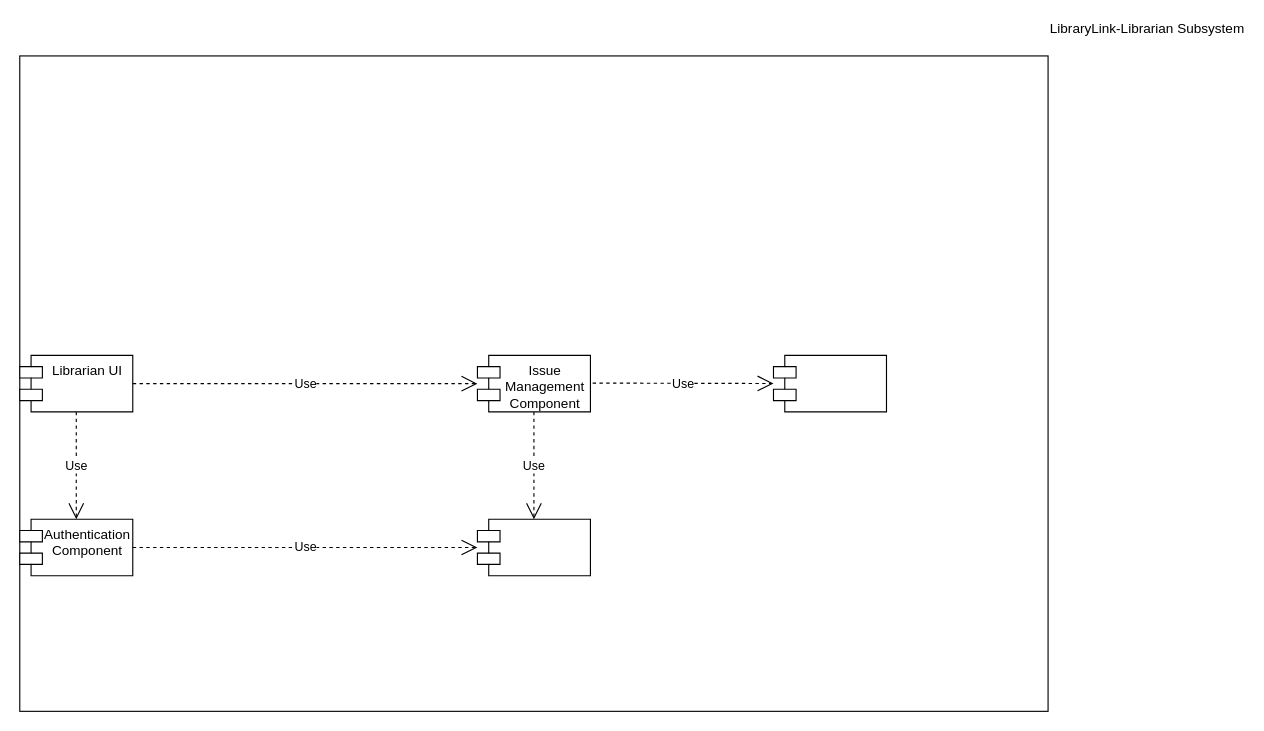
This 1264x731 diagram has some shape labels left out. The shapes that lost their labels are listed below. From the top down, each one's centre as x and y in pixels, then its label:
[829,383]: Catalogue Component
[533,547]: Database
